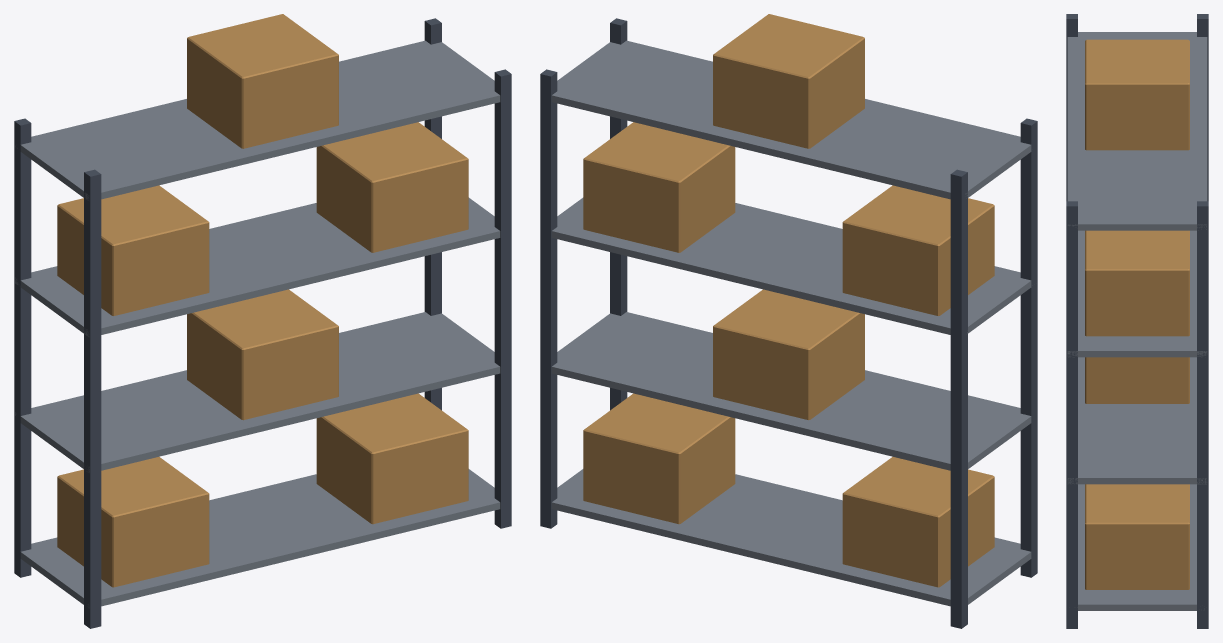
File: metal_shelving.glb
The picture shows the model from 3 angles, left to right: view 1: azimuth 30°, elevation 25°; view 2: azimuth 150°, elevation 25°; view 3: azimuth 270°, elevation 25°; orthographic projection. The views are drawn at different scales.
Parts seen in each view (by area): view 1: metal_shelving; view 2: metal_shelving; view 3: metal_shelving.
Part boxes in pixels (x1,y1,x2,y2): metal_shelving: (14,14,511,628); metal_shelving: (540,14,1037,628); metal_shelving: (1066,14,1208,628).
Size of the model in its own units: 1.95 by 2.23 by 0.61.
